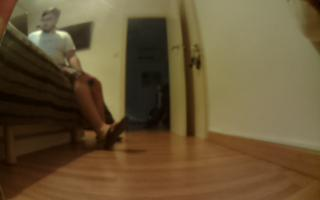person: (32, 5, 135, 153)
